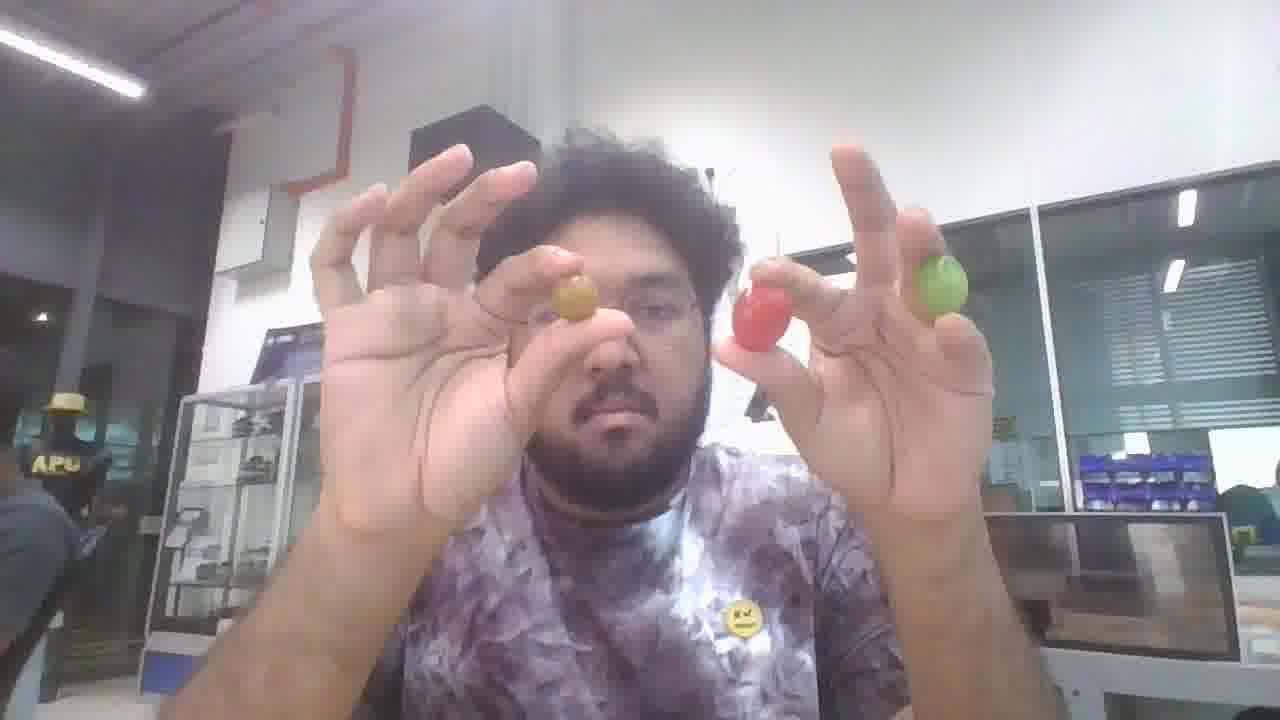green_cherry_tomato: (914, 255, 967, 316)
red_cherry_tomato: (732, 284, 791, 352)
yellow_cherry_tomato: (551, 274, 599, 319)
